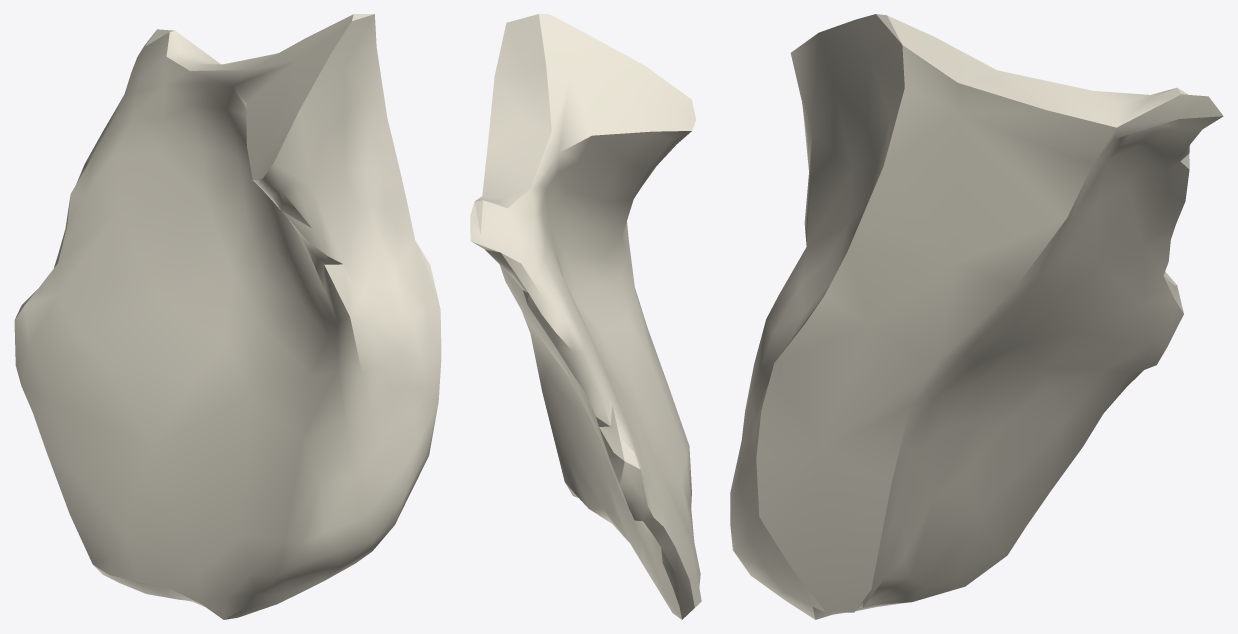
The model's file is fma54688_mm2085m.glb.
3 renders of one model, left to right at view 1: azimuth 30°, elevation 25°; view 2: azimuth 150°, elevation 25°; view 3: azimuth 270°, elevation 25°, orthographic. The views are drawn at different scales.
Parts seen in each view (by area): view 1: FMA54688_MM2085M; view 2: FMA54688_MM2085M; view 3: FMA54688_MM2085M.
Part boxes in pixels (x1,y1,x2,y2): FMA54688_MM2085M: (14,14,441,619); FMA54688_MM2085M: (470,14,701,619); FMA54688_MM2085M: (730,14,1223,619).
Size of the model in its own units: 0.0163 by 0.0325 by 0.0216.
